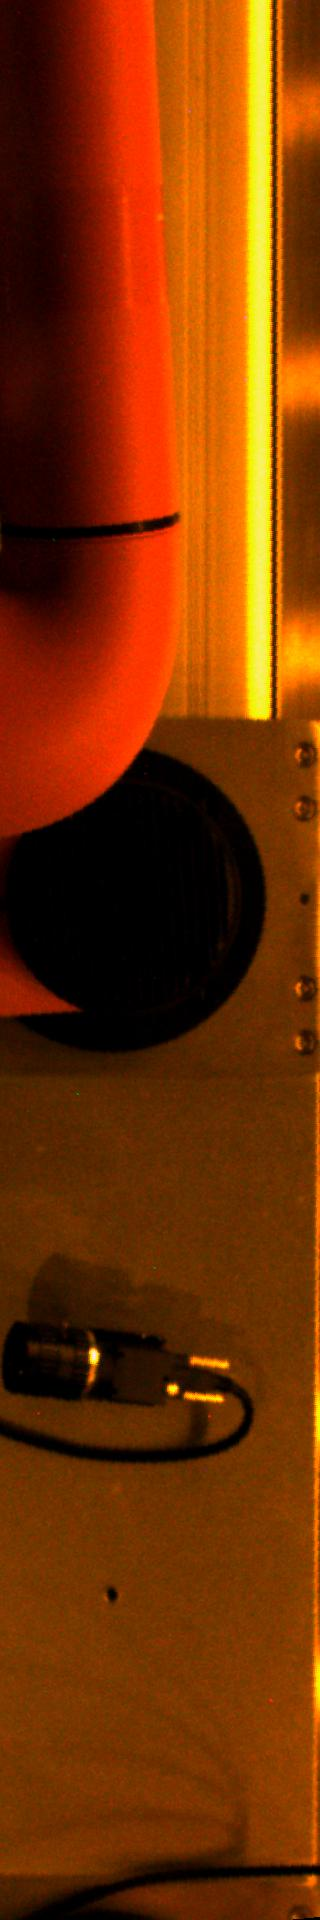keyPoint_2: (97, 1580, 128, 1610)
